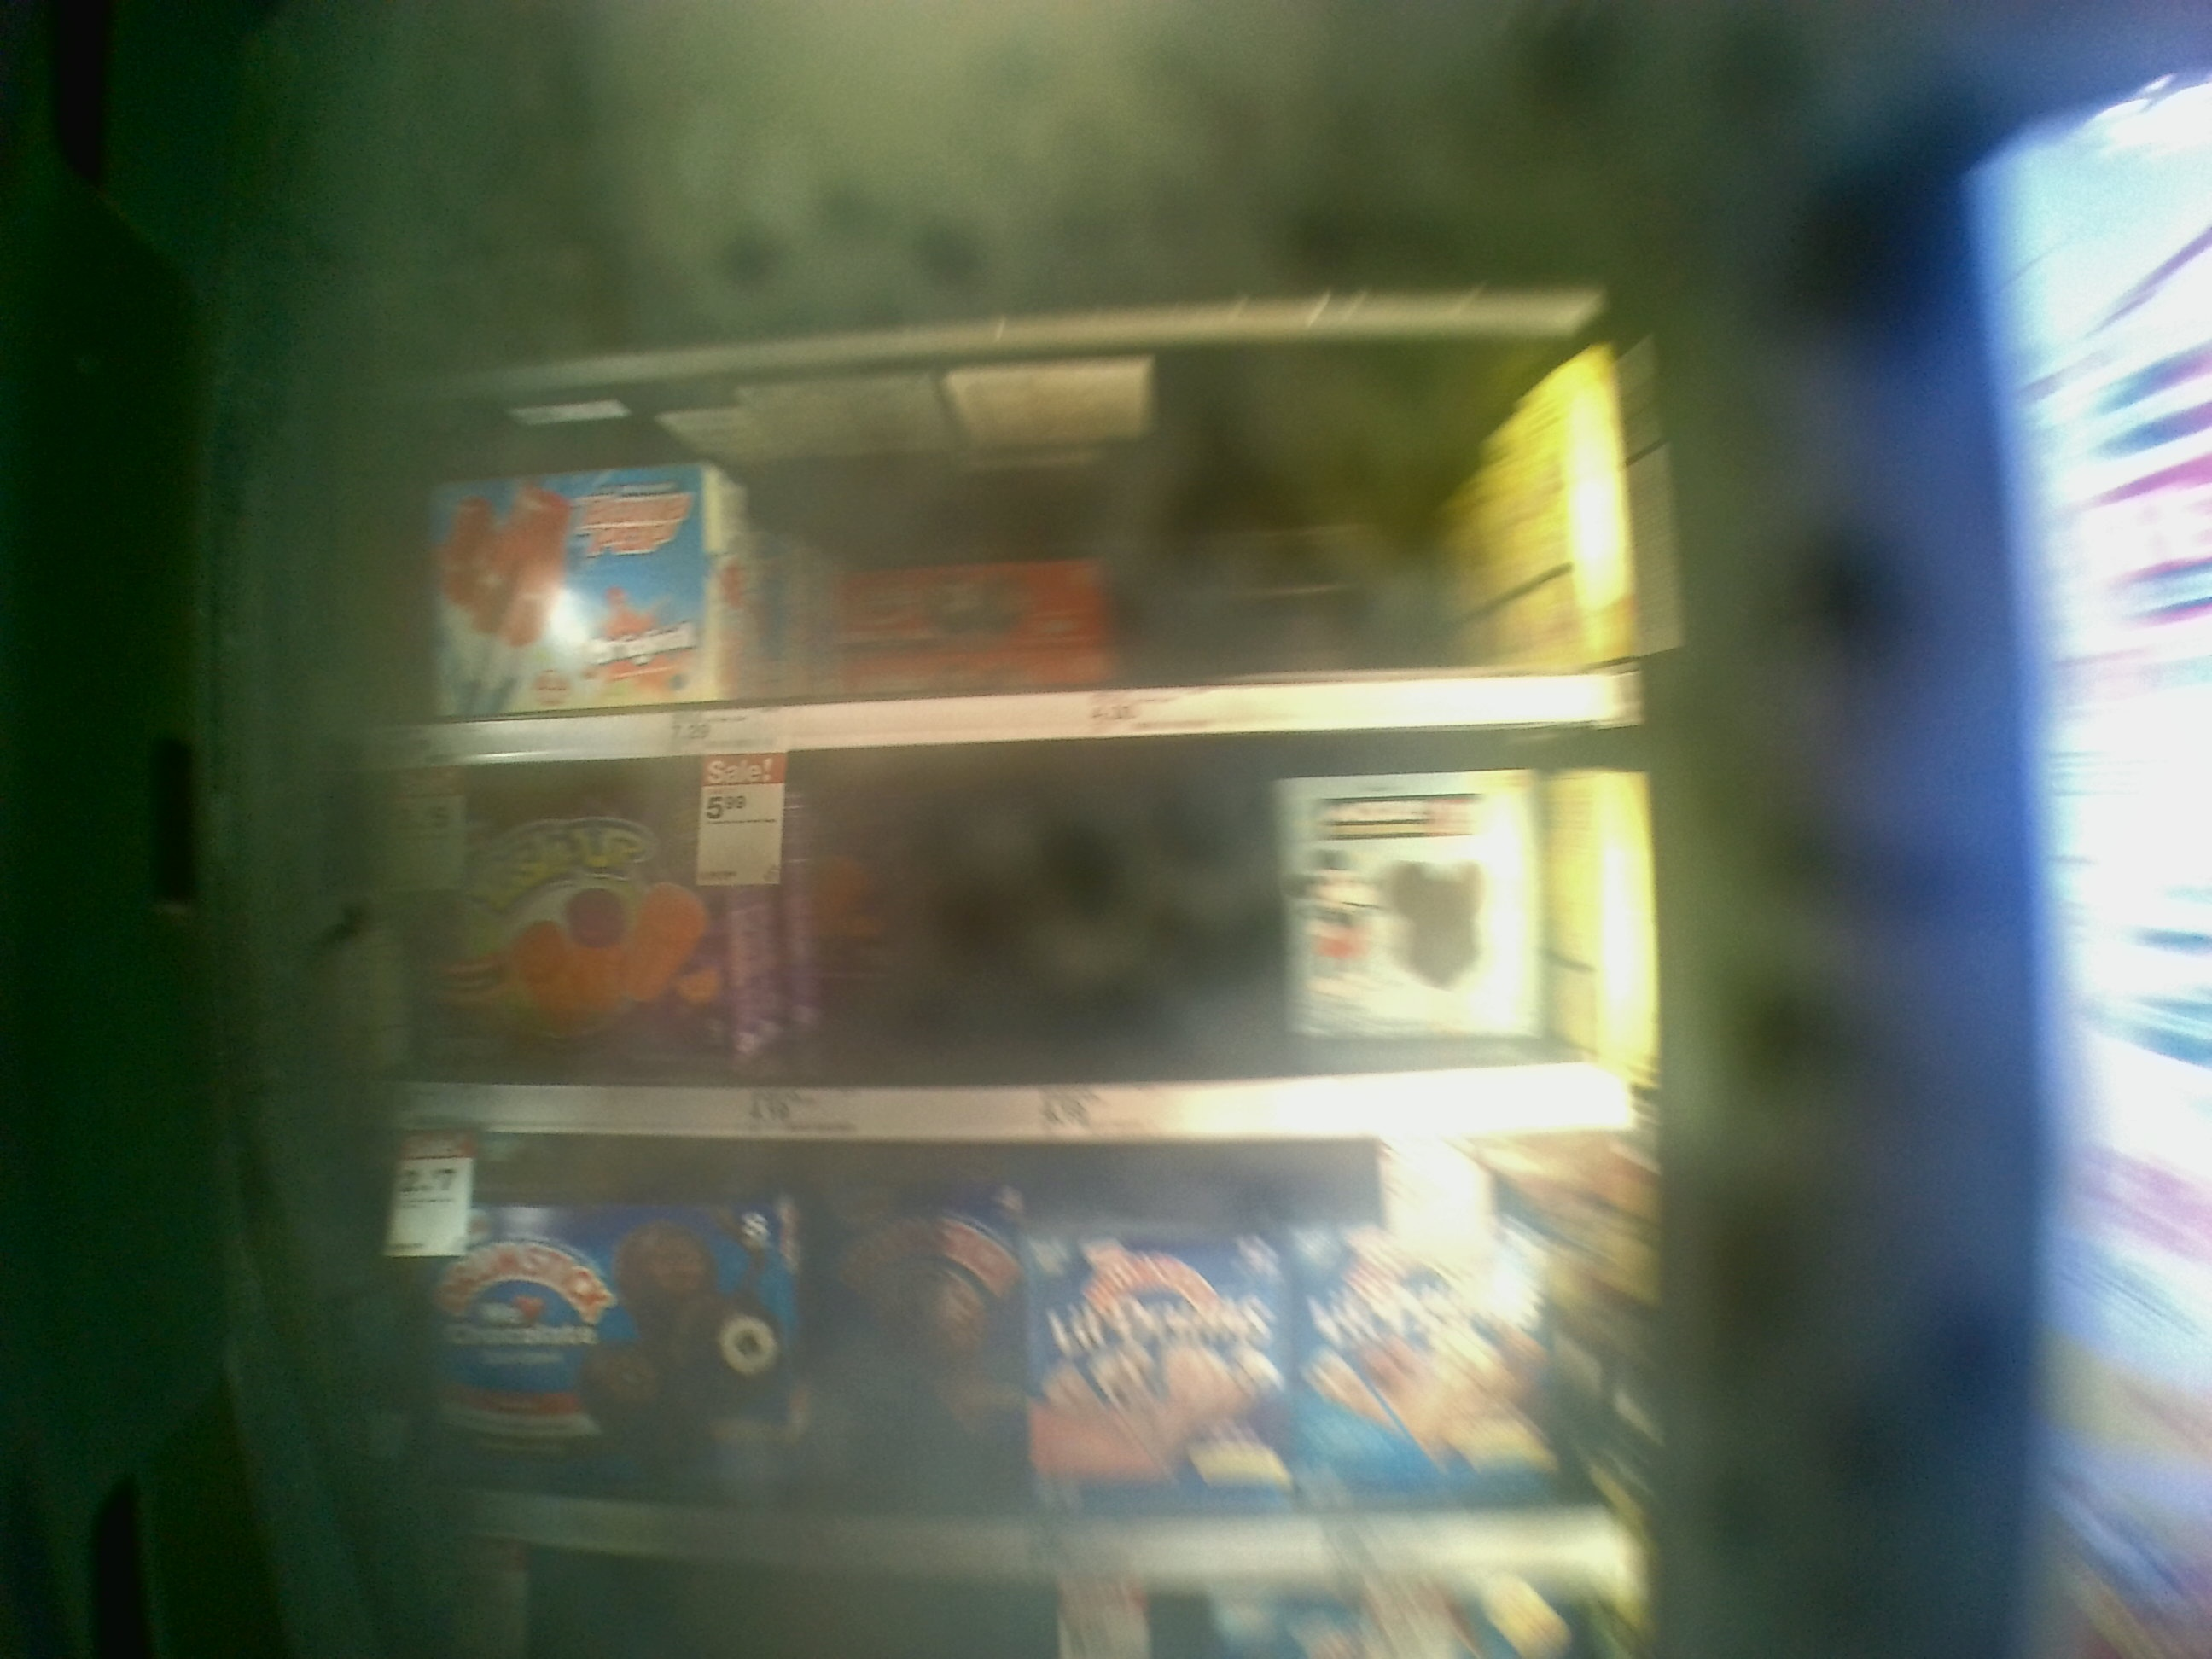shelf: (381, 328, 1639, 769), (376, 721, 1658, 1140)
